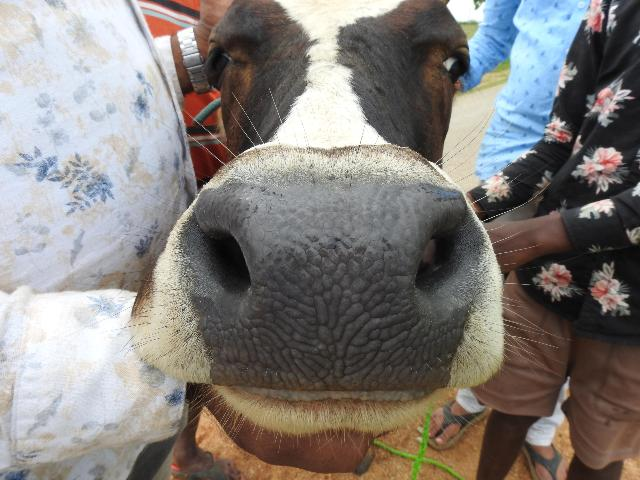Muzzle: (220, 176, 432, 388)
